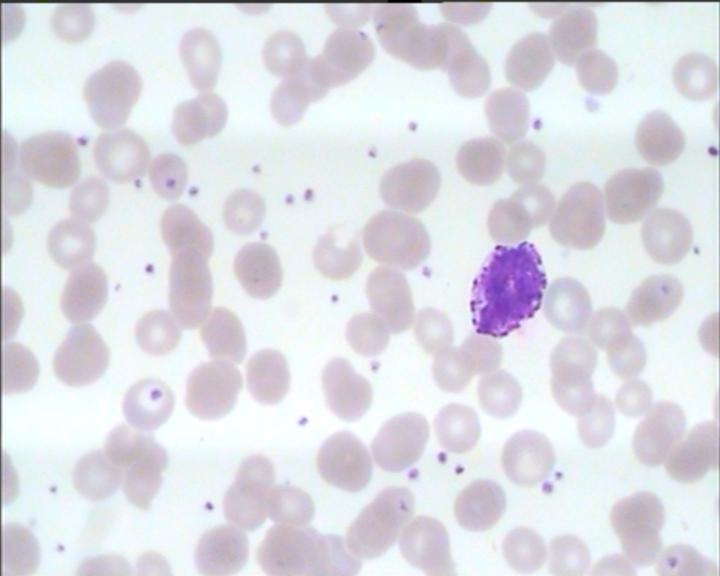baso: (462, 235, 551, 341)
